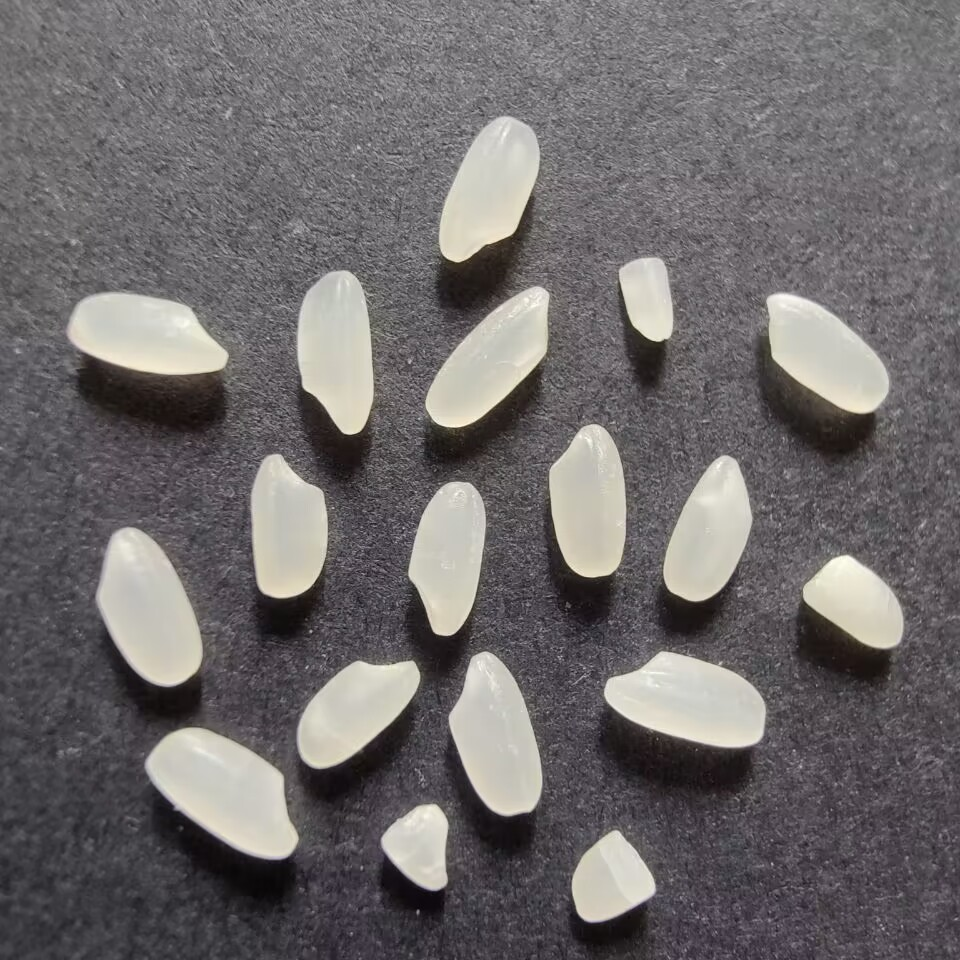broken: (801, 551, 912, 653), (566, 825, 657, 929), (376, 797, 460, 896), (611, 254, 676, 346)
rice: (137, 723, 302, 864), (422, 283, 555, 432), (442, 648, 550, 827), (92, 524, 207, 692), (599, 649, 773, 751), (761, 291, 894, 419), (433, 115, 546, 265), (61, 290, 234, 384), (292, 654, 426, 773), (292, 265, 380, 438), (656, 452, 755, 605), (402, 474, 490, 639), (540, 420, 629, 583), (244, 451, 333, 609)
